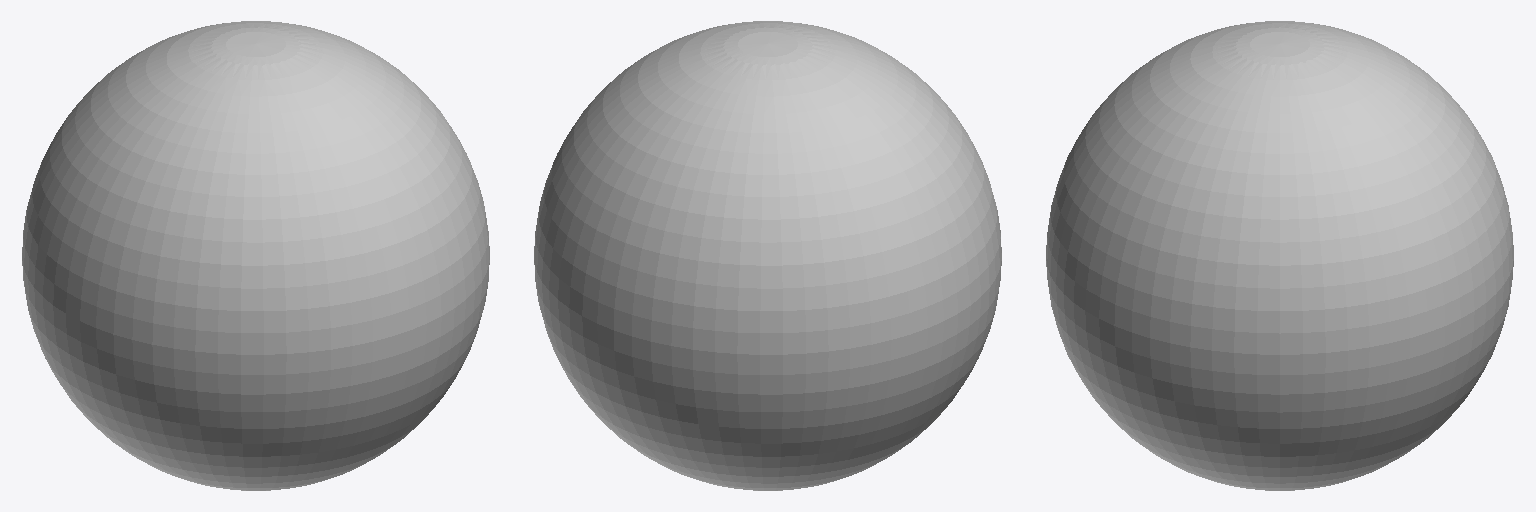
The model's file is mercury.obj.
3 views of the same model, side by side, from view 1: azimuth 30°, elevation 25°; view 2: azimuth 150°, elevation 25°; view 3: azimuth 270°, elevation 25° (orthographic).
Parts seen in each view (by area): view 1: Sphere; view 2: Sphere; view 3: Sphere.
Part boxes in pixels (left/top/right/bottom): Sphere: left=22, top=21, right=489, bottom=490; Sphere: left=534, top=21, right=1001, bottom=490; Sphere: left=1046, top=21, right=1513, bottom=490.
Bounding box in the file's own units: 4.82 × 4.83 × 4.82.